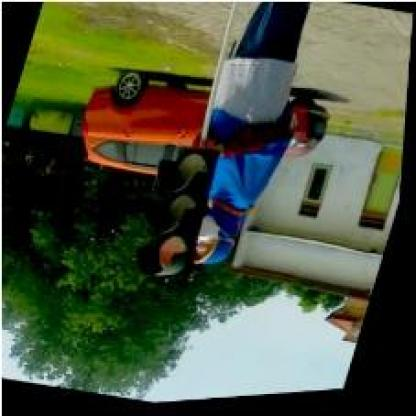red: (133, 143, 226, 286)
